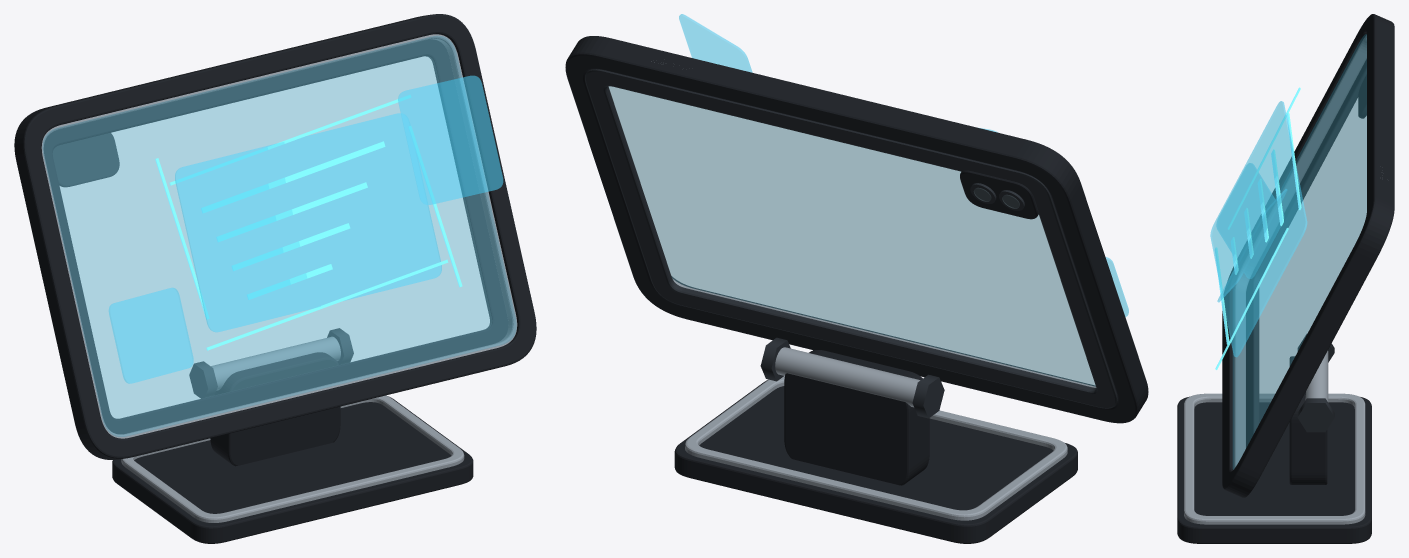
Rendered from holographic-pad.glb.
3 views of the same model, side by side, from view 1: azimuth 30°, elevation 25°; view 2: azimuth 150°, elevation 25°; view 3: azimuth 270°, elevation 25° (orthographic). The views are drawn at different scales.
Parts seen in each view (by area): view 1: screen_face, glass_core, holo_main, frame_outer, stand_foot, back_ring, holo_right, frame_inner_lip, stand_neck, holo_left, stand_trim, sensor_pod (+9 smaller); view 2: glass_core, screen_face, frame_outer, back_ring, stand_foot, stand_neck, stand_trim, hinge_axle, holo_right, sensor_pod, hinge_cap_0, frame_inner_lip (+1 smaller); view 3: screen_face, frame_outer, stand_foot, glass_core, holo_main, frame_inner_lip, stand_trim, back_ring, holo_left, stand_neck, holo_right, hinge_cap_1 (+8 smaller).
Part boxes in pixels (x1,y1,x2,y2): screen_face: (42,36,516,436); glass_core: (53,56,491,418); holo_main: (175,113,441,332); frame_outer: (14,14,536,459); stand_foot: (112,396,473,543); back_ring: (43,39,508,434); holo_right: (398,75,503,204); frame_inner_lip: (41,34,517,438); stand_neck: (210,352,340,466); holo_left: (108,287,193,383); stand_trim: (121,395,464,522); sensor_pod: (52,133,119,187); glass_core: (609,86,1095,387); screen_face: (609,87,1094,385); frame_outer: (565,36,1148,423); back_ring: (585,69,1117,408); stand_foot: (674,379,1077,543); stand_neck: (784,350,929,485); stand_trim: (685,376,1067,520); hinge_axle: (775,347,920,407); holo_right: (679,14,752,72); sensor_pod: (960,170,1038,219); hinge_cap_0: (912,374,944,418); frame_inner_lip: (672,278,1096,387); screen_face: (1233,34,1366,469); frame_outer: (1222,14,1394,497); stand_foot: (1177,396,1371,543); glass_core: (1255,70,1366,430); holo_main: (1210,101,1307,357); frame_inner_lip: (1233,35,1366,469); stand_trim: (1184,393,1365,524); back_ring: (1246,60,1366,447); holo_left: (1216,163,1283,278); stand_neck: (1289,356,1327,484); holo_right: (1217,189,1287,302); hinge_cap_1: (1297,398,1334,432).
Size of the model in its own units: 0.2398 by 0.1936 by 0.1027.
